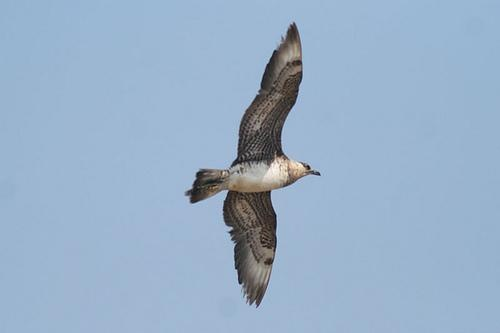bird: (184, 24, 321, 309)
